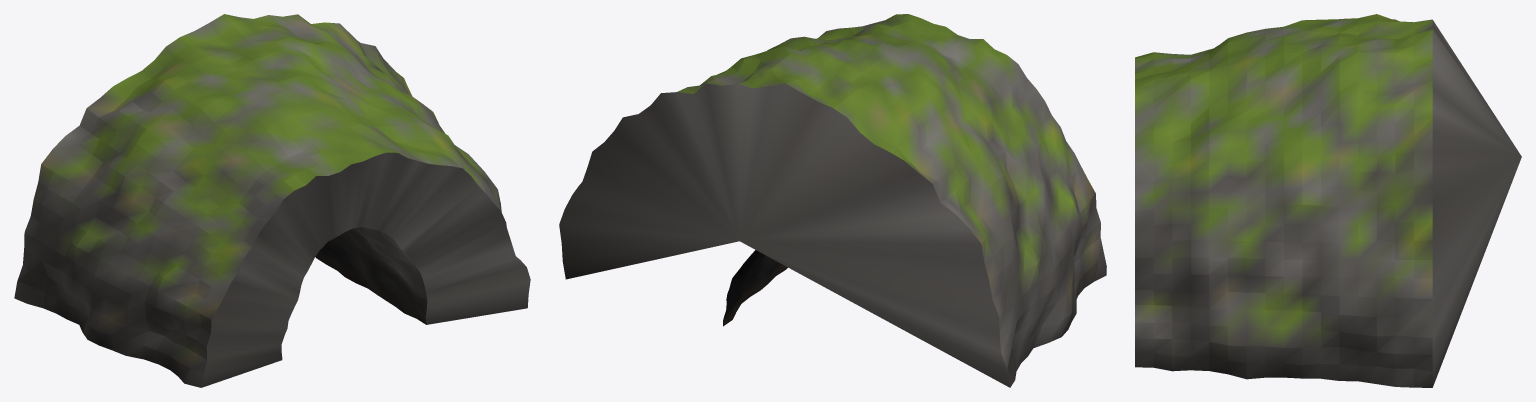
Rendered from cave-mouth-b.lod0.glb.
The picture shows the model from 3 angles, left to right: view 1: azimuth 30°, elevation 25°; view 2: azimuth 150°, elevation 25°; view 3: azimuth 270°, elevation 25°; orthographic projection. The views are drawn at different scales.
Bounding box in the file's own units: 8.76 × 4.64 × 6.5.
